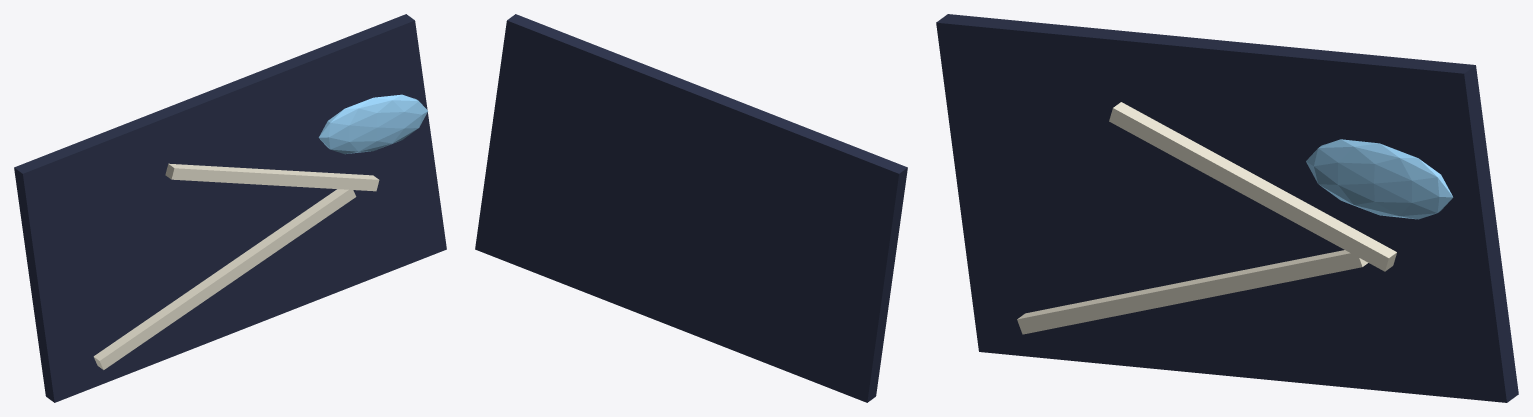
Rendered from 04_weathering_wear_overlay_4.glb.
The picture shows the model from 3 angles, left to right: view 1: azimuth 30°, elevation 25°; view 2: azimuth 150°, elevation 25°; view 3: azimuth 330°, elevation 25°; orthographic projection. The views are drawn at different scales.
Visible parts, largest first — view 1: wear_plate, scratch_a, rust_or_moss_spot, scratch_b; view 2: wear_plate; view 3: wear_plate, rust_or_moss_spot, scratch_b, scratch_a.
Boxes of the visible parts, x1=… form: wear_plate: x1=14, y1=14, x2=446, y2=402; scratch_a: x1=93, y1=189, x2=356, y2=369; rust_or_moss_spot: x1=318, y1=94, x2=427, y2=154; scratch_b: x1=165, y1=163, x2=379, y2=191; wear_plate: x1=475, y1=14, x2=907, y2=402; wear_plate: x1=936, y1=14, x2=1518, y2=402; rust_or_moss_spot: x1=1306, y1=139, x2=1453, y2=219; scratch_b: x1=1109, y1=102, x2=1396, y2=271; scratch_a: x1=1017, y1=250, x2=1368, y2=334.
Size of the model in its own units: 1.39 by 0.9239 by 0.134.
